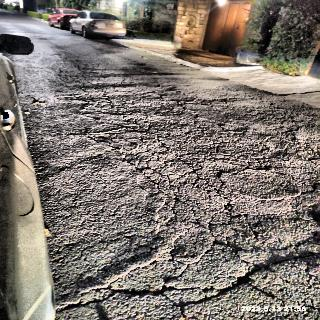alligator-crack: (50, 83, 320, 320)
